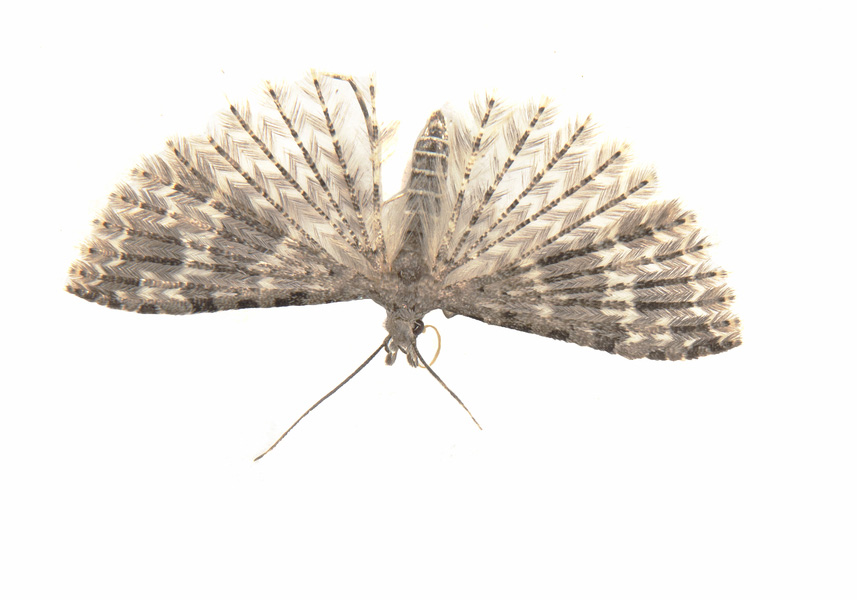Alucitidae: (52, 55, 752, 460)
moth: (54, 57, 754, 462)
